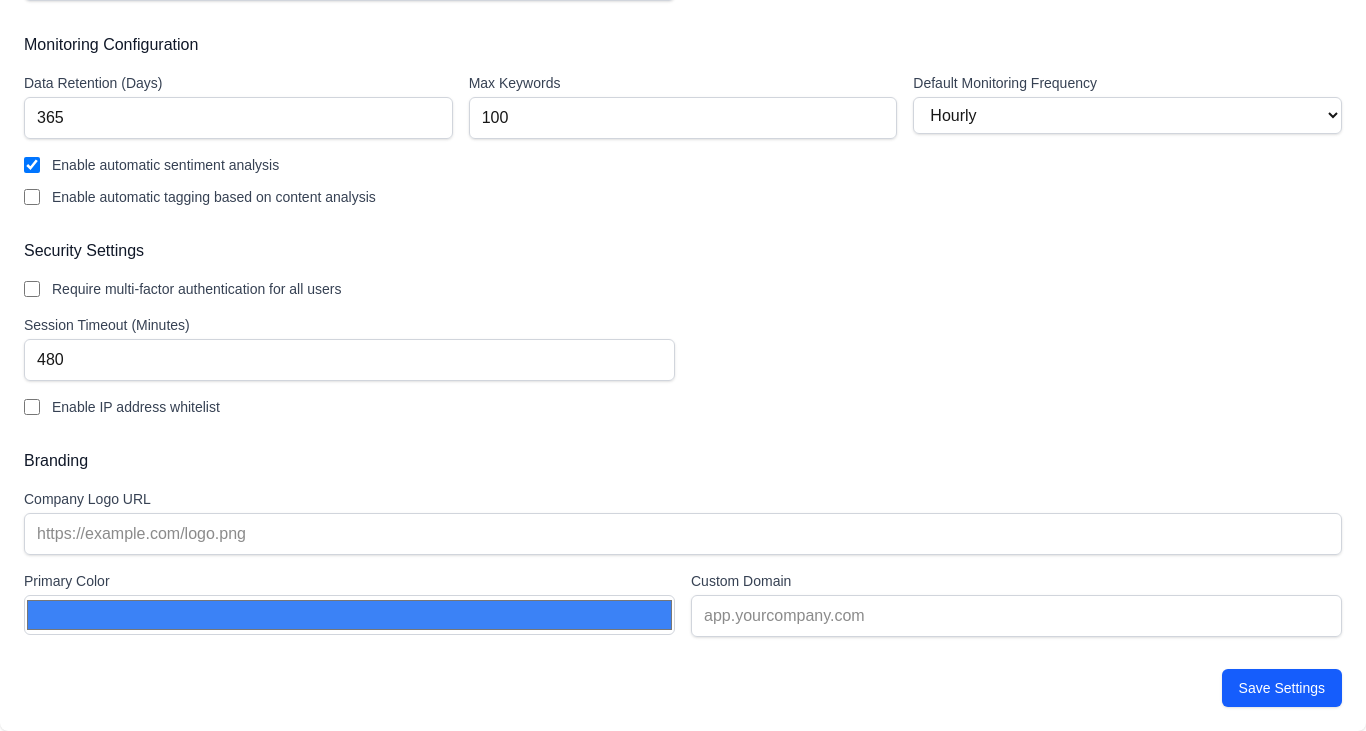
Test: TenantSettings › displays success message after successful update
The image size is (1366, 731).
(page scrolled)
Click the button "Save Settings".
click(1282, 688)  # box [1222,669,1342,707]
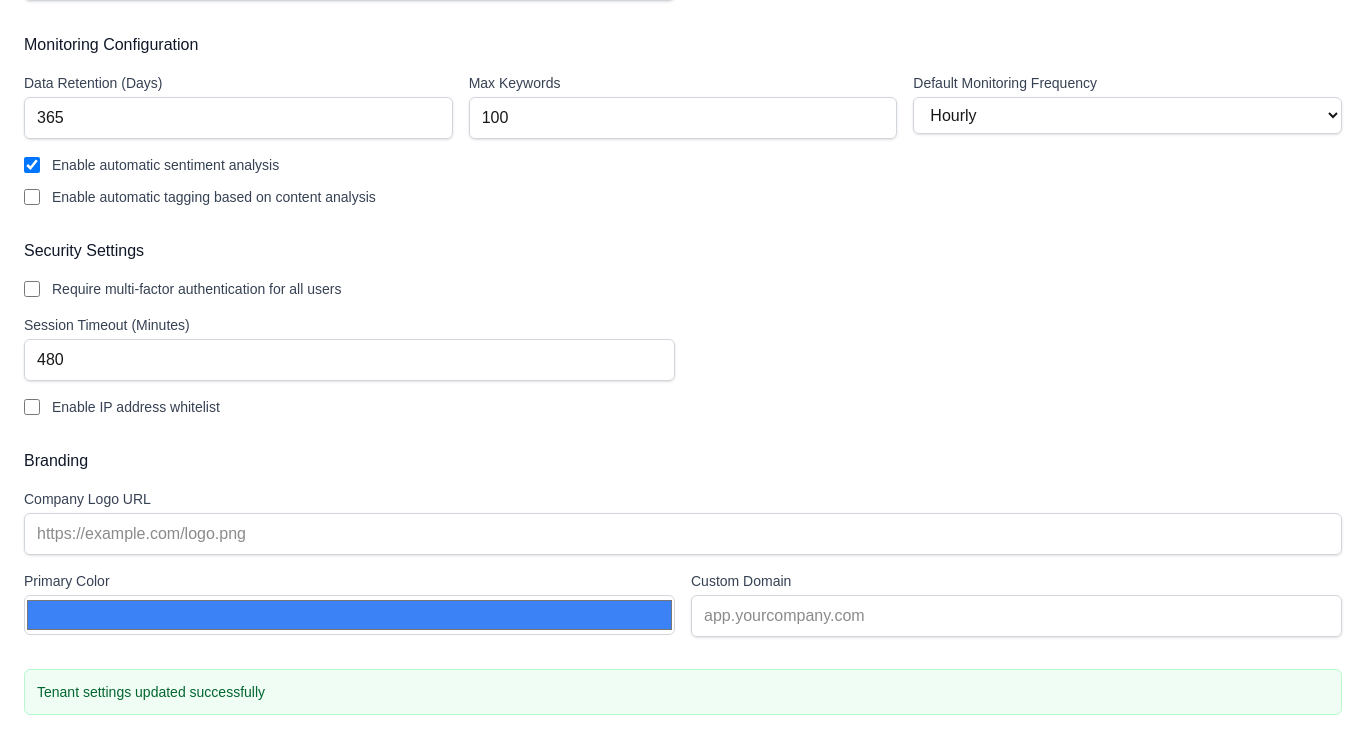
Check: the text "Tenant settings updated successfully" is shown, box [37,684,265,700]
